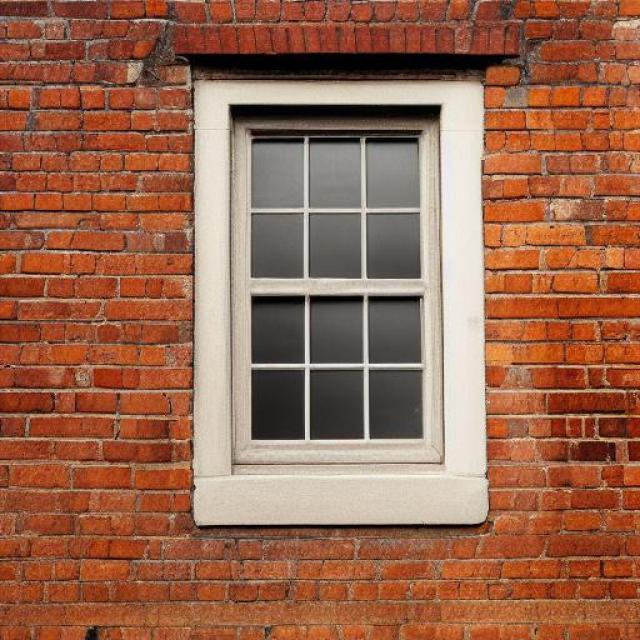window: (194, 80, 485, 522)
